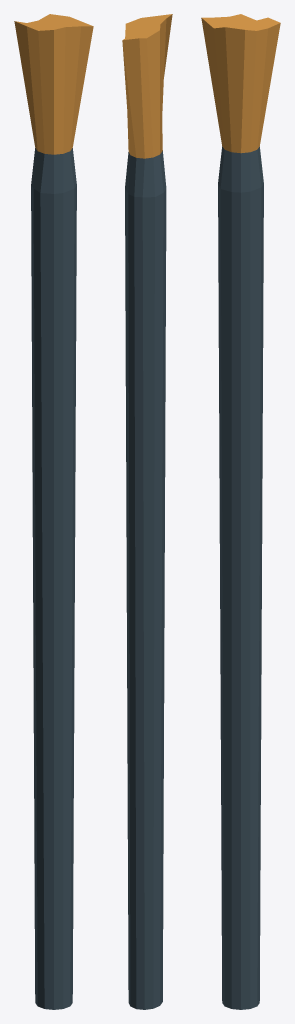
The model's file is low-poly-paintbrush-by-wyatt-roy-6buRjkPW6Ao.glb.
3 renders of one model, left to right at view 1: azimuth 90°, elevation 25°; view 2: azimuth 150°, elevation 25°; view 3: azimuth 270°, elevation 25°, orthographic.
Parts seen in each view (by area): view 1: group913502081, group1147392475; view 2: group913502081, group1147392475; view 3: group913502081, group1147392475.
Part boxes in pixels (x1,y1,x2,y2): group913502081: (31, 148, 76, 1009); group1147392475: (14, 14, 93, 154); group913502081: (125, 151, 166, 1009); group1147392475: (122, 14, 172, 158); group913502081: (218, 146, 263, 1009); group1147392475: (201, 14, 280, 153).
Bounding box in the file's own units: 0.1 × 2.59 × 0.19.
